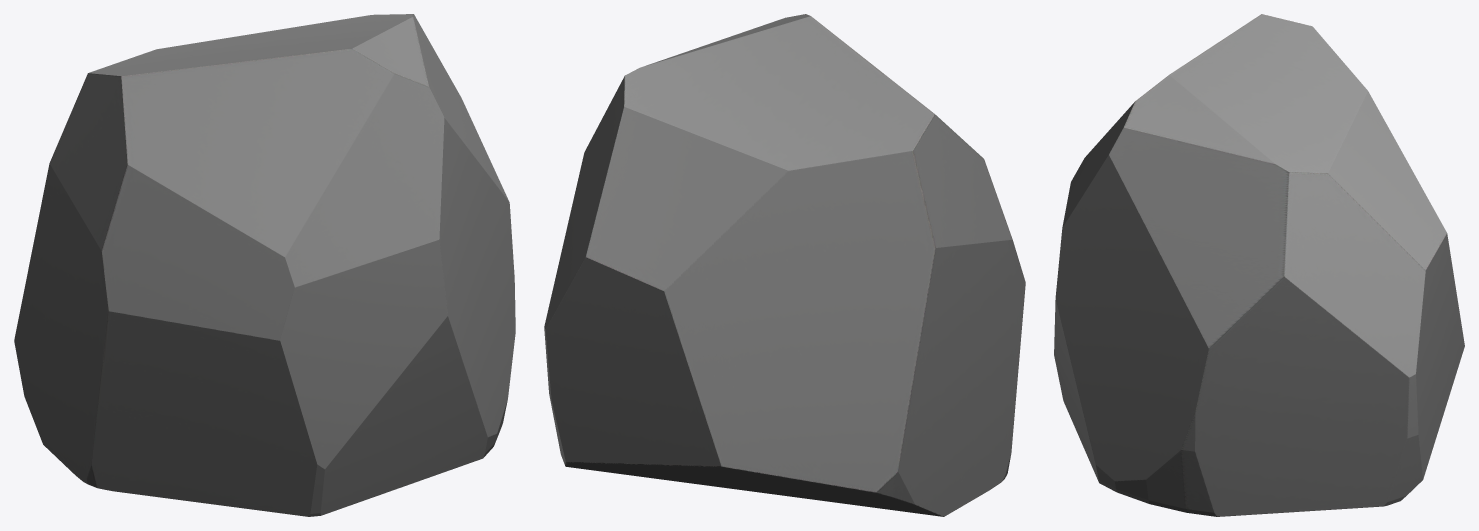
File: Rock1.fbx
3 views of the same model, side by side, from view 1: azimuth 30°, elevation 25°; view 2: azimuth 150°, elevation 25°; view 3: azimuth 270°, elevation 25° (orthographic). The views are drawn at different scales.
Parts seen in each view (by area): view 1: Rock1; view 2: Rock1; view 3: Rock1.
Part boxes in pixels (x1,y1,x2,y2): Rock1: (14,14,515,516); Rock1: (544,14,1025,516); Rock1: (1054,14,1464,516).
Size of the model in its own units: 186 by 175 by 176.
